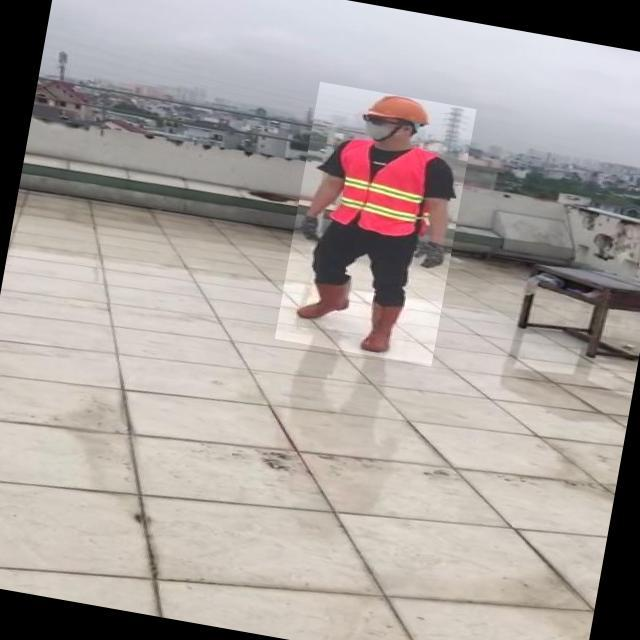Gloves: (413, 243, 449, 273), (295, 216, 324, 246)
Helmet: (362, 91, 433, 128)
Human: (274, 82, 476, 368)
Safety Boot: (295, 275, 352, 328), (357, 301, 404, 359)
Safety Vest: (328, 138, 438, 243)
